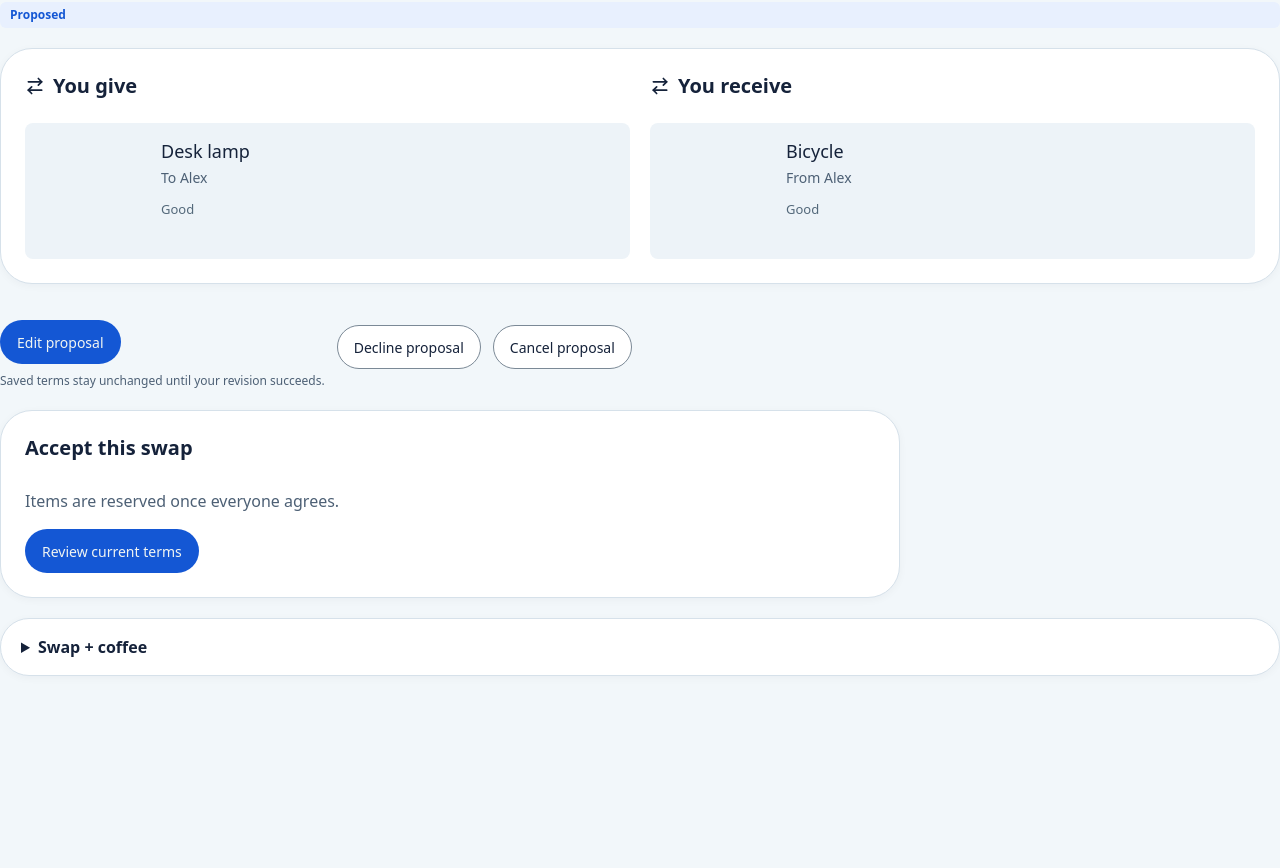
Scenario: acceptance requires explicit refreshed review, preserves key on failure and never optimistically confirms
This screenshot has width=1280, height=868.
expect the heading "Accept this swap" is shown: met, box [25,434,193,461]
expect the button "Accept version 1" is not shown: met
Click the button "Review current terms".
click(112, 551)  # box [25,529,199,573]
(page scrolled)
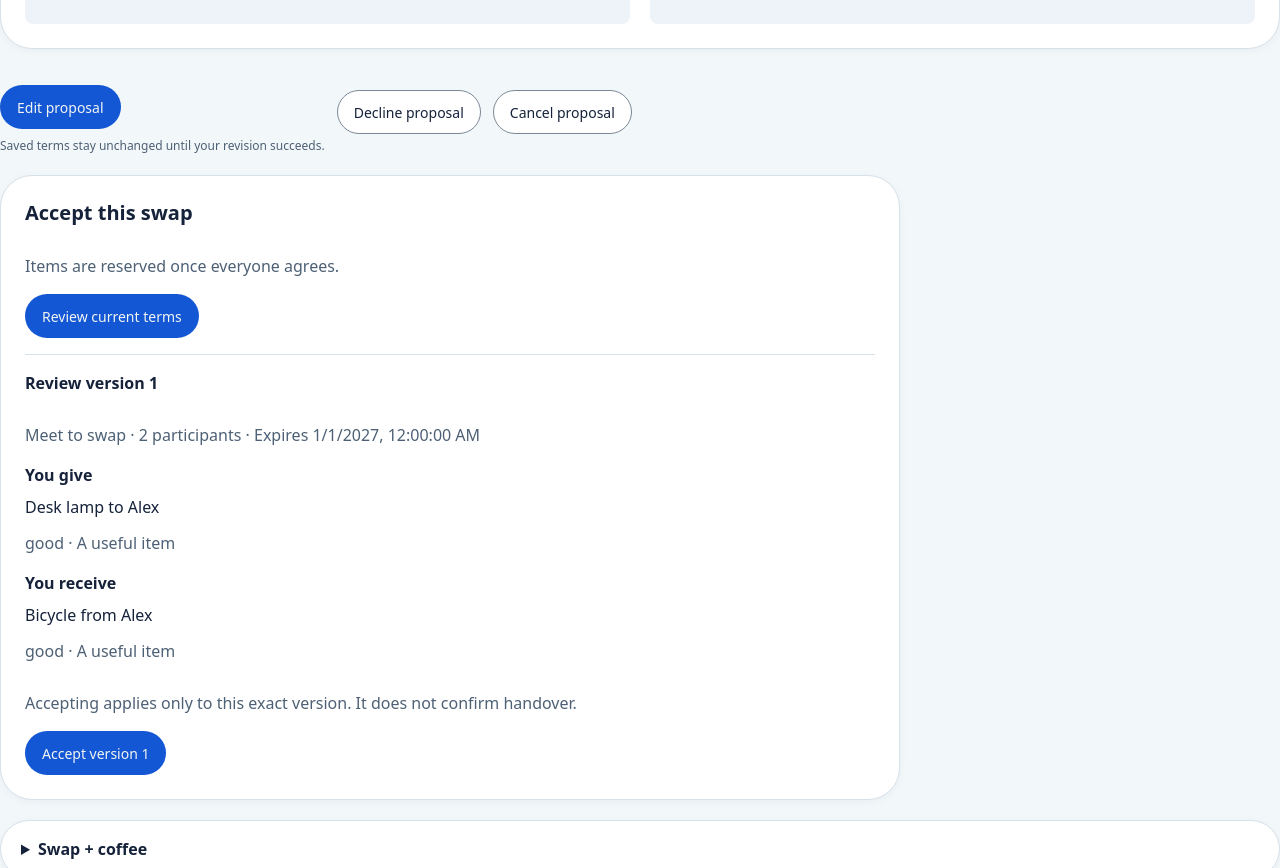
expect the element named "Acceptance review" shows "Desk lamp to Alex": met, box [25,354,875,775]
expect the element named "Acceptance review" shows "Bicycle from Alex": met, box [25,354,875,775]
Click the button "Accept version 1".
click(96, 753)  # box [25,731,166,775]
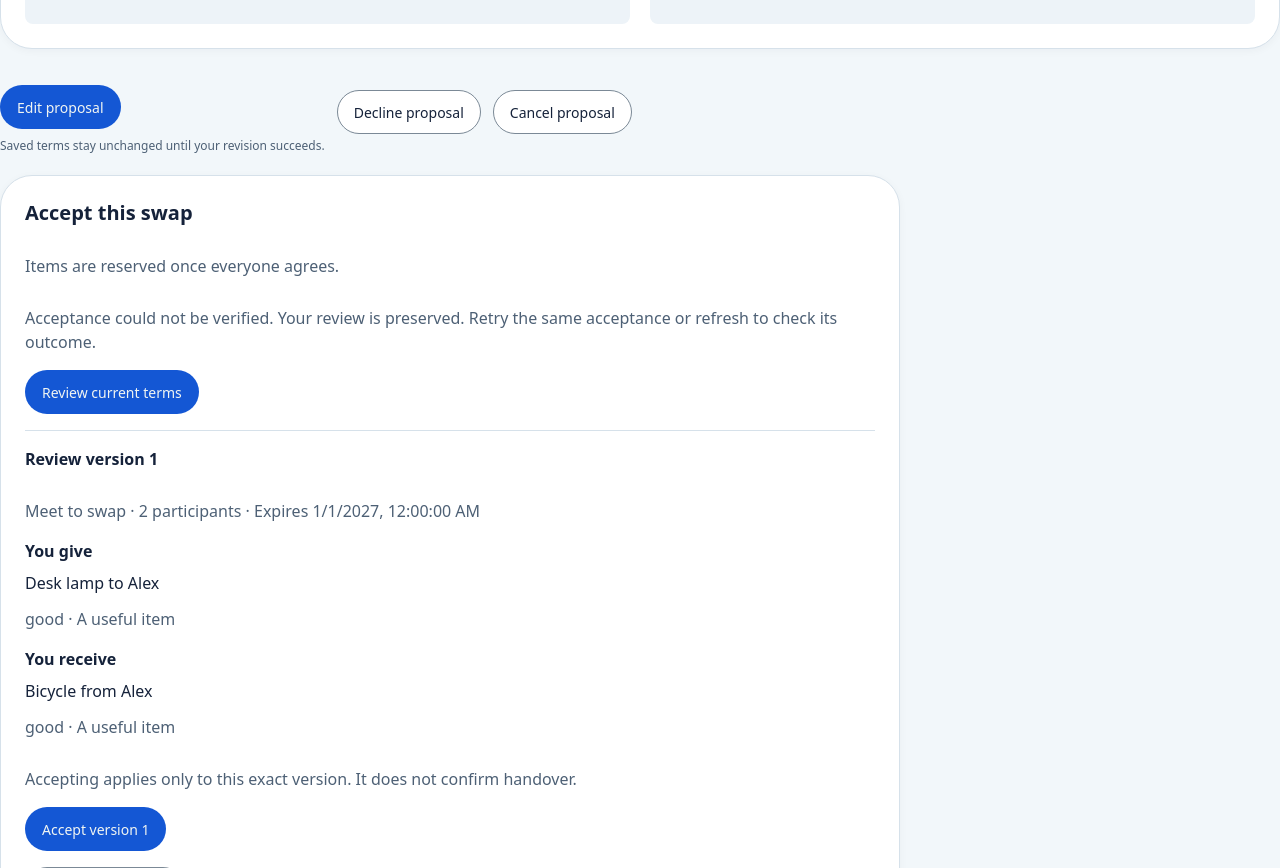
expect the text "Acceptance could not be verified" is shown: met, box [25,307,837,353]
Click the button "Accept version 1".
click(96, 829)  # box [25,807,166,851]
(page scrolled)
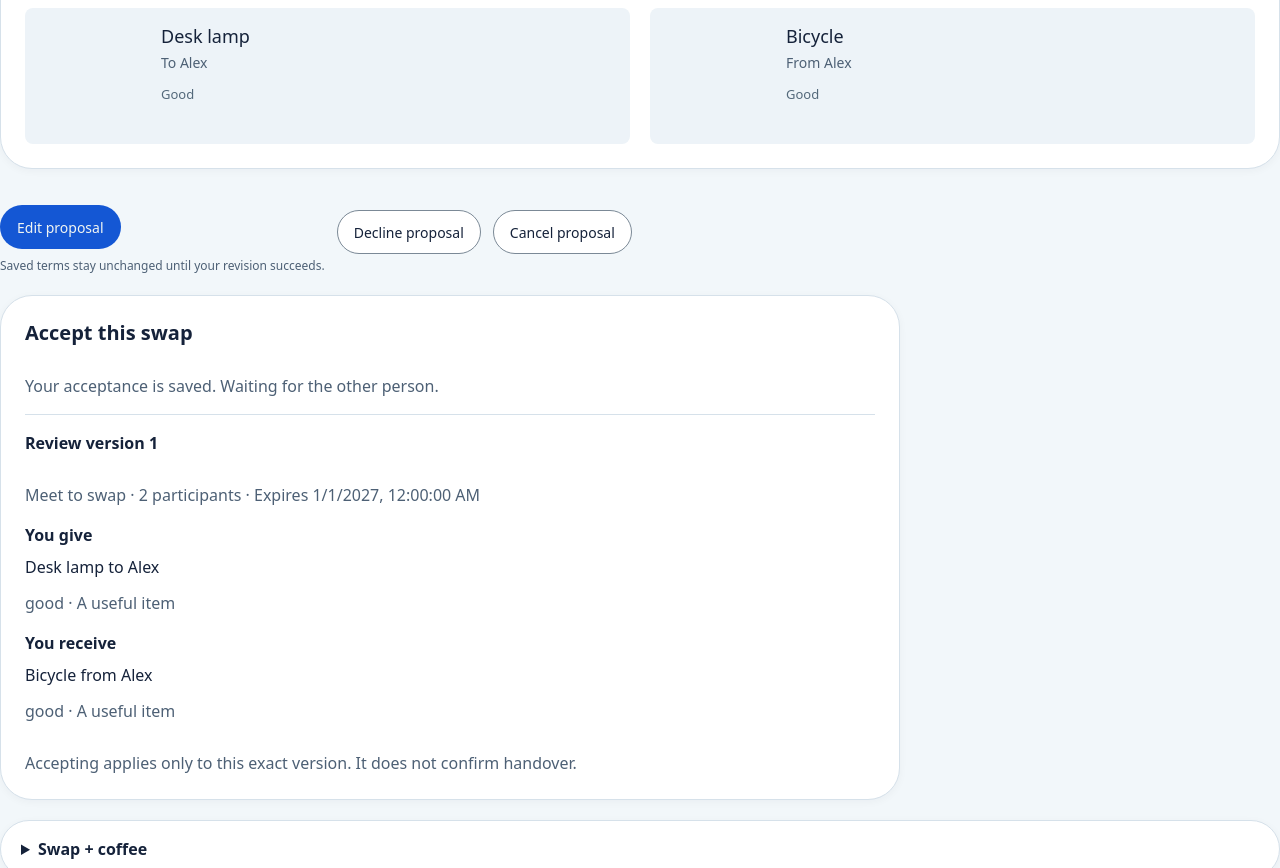
expect the text "Your acceptance is saved. Waiting for the other person." is shown: met, box [25,375,439,397]
